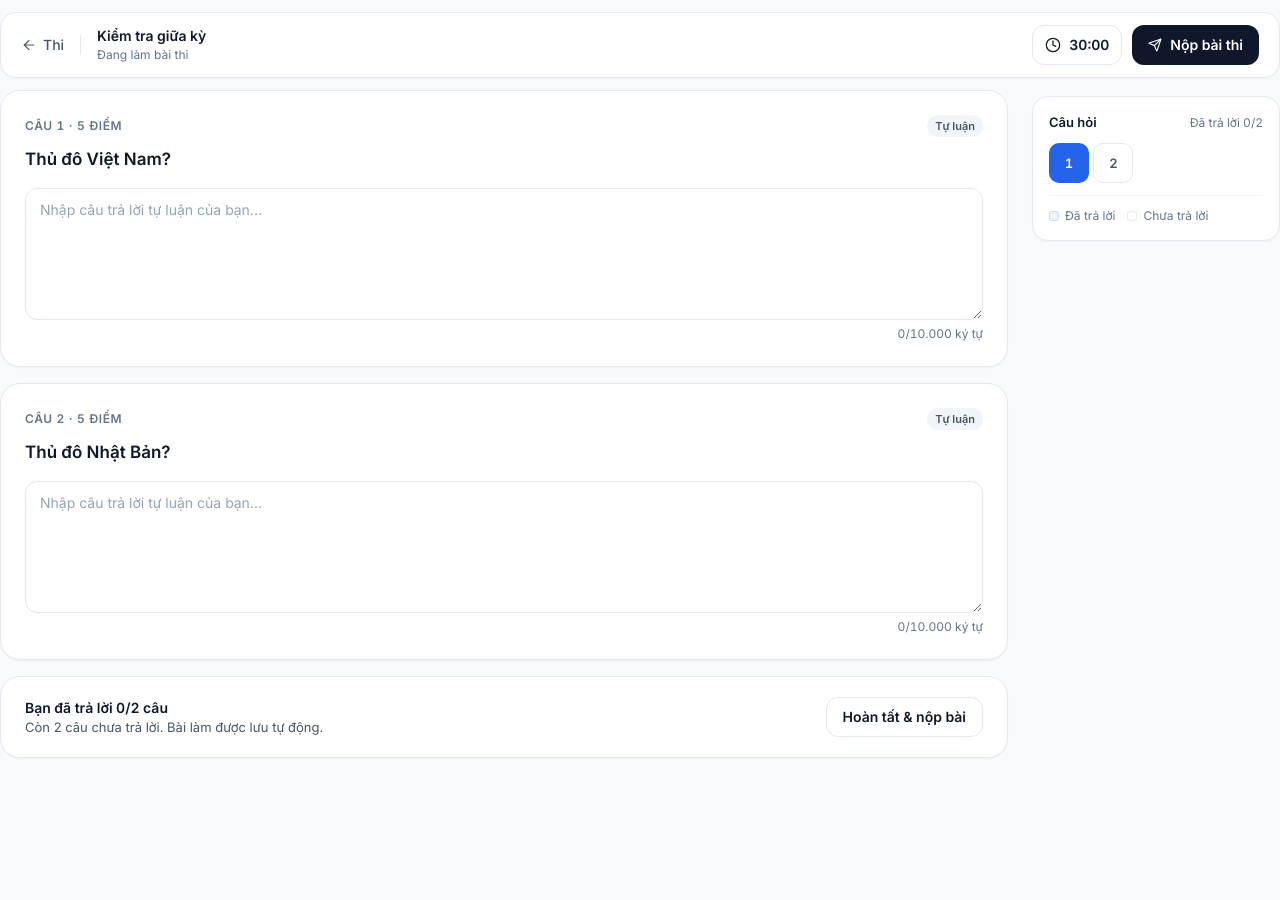
Exam attempt autosave retry (R20-07) › does NOT retry a definitive refusal (400): it keeps the explicit failure message
This screenshot has width=1280, height=900.
Step 1. Type "Hà Nội" into the text box with placeholder "Nhập câu trả lời tự luận của bạn..." below "Thủ đô Việt Nam?" → x=504, y=254, box [25,188,983,320]
Wait 60500 ms
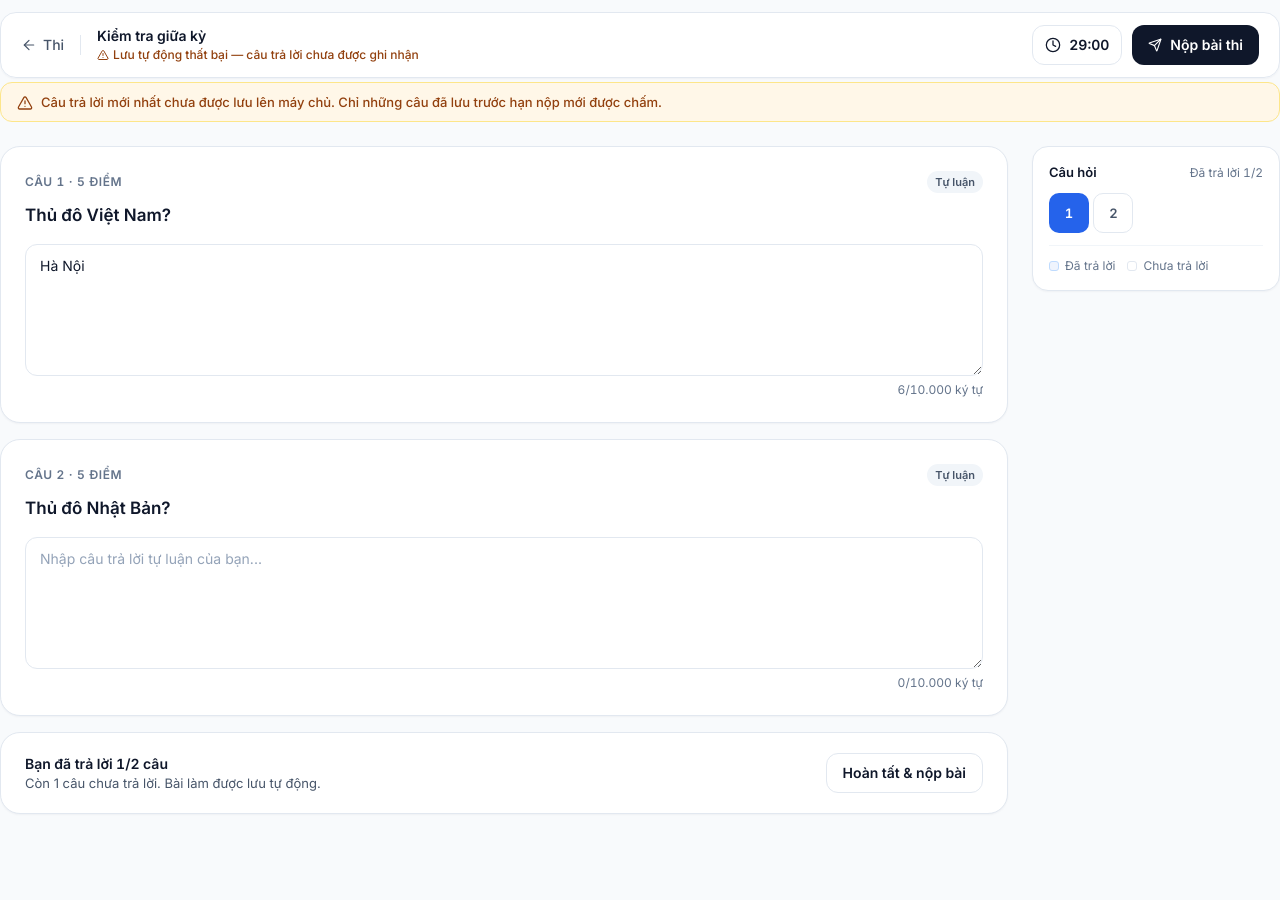
Expected: the text "Lưu tự động thất bại — câu trả lời chưa được ghi nhận" is shown, [113,47,419,63]
